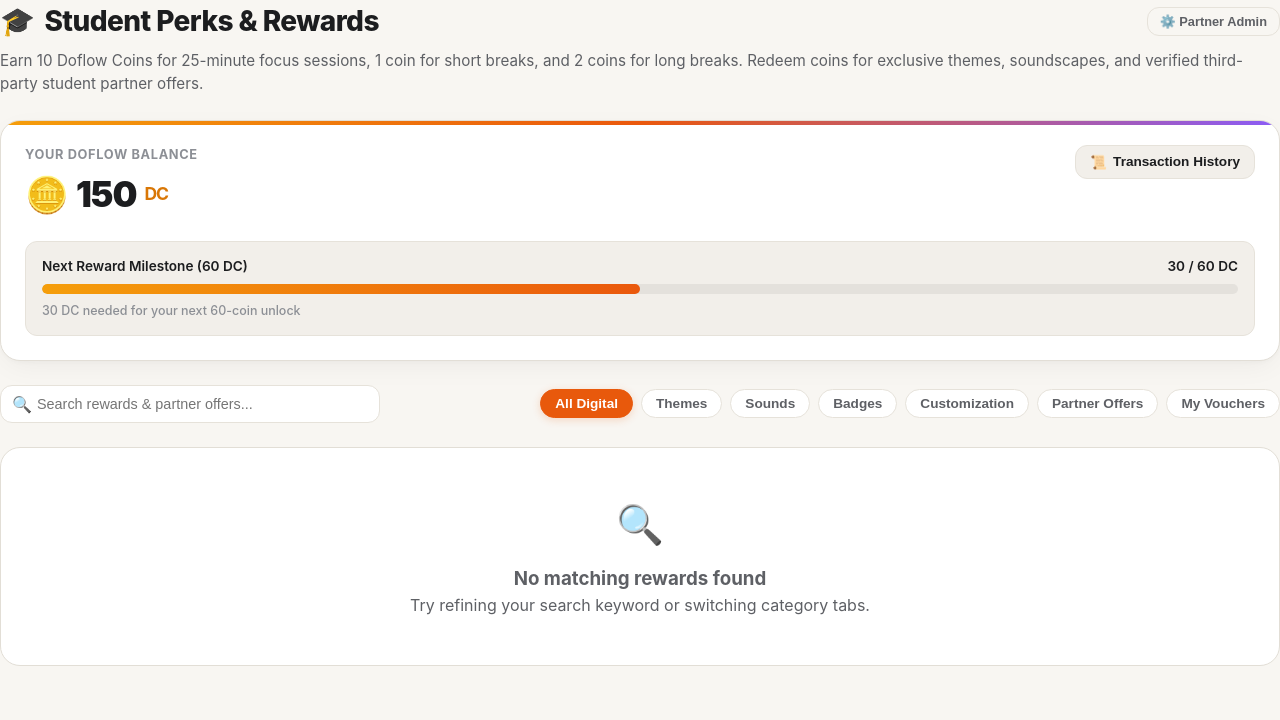
Test: Partner Offers UI Acceptance Tests › 2. expands terms & redemption instructions when clicking view terms button
The image size is (1280, 720).
Click the tab with test id "category-filter-partner_offers" at (1098, 404), box x1=1037 y1=389 x2=1158 y2=418
(page scrolled)
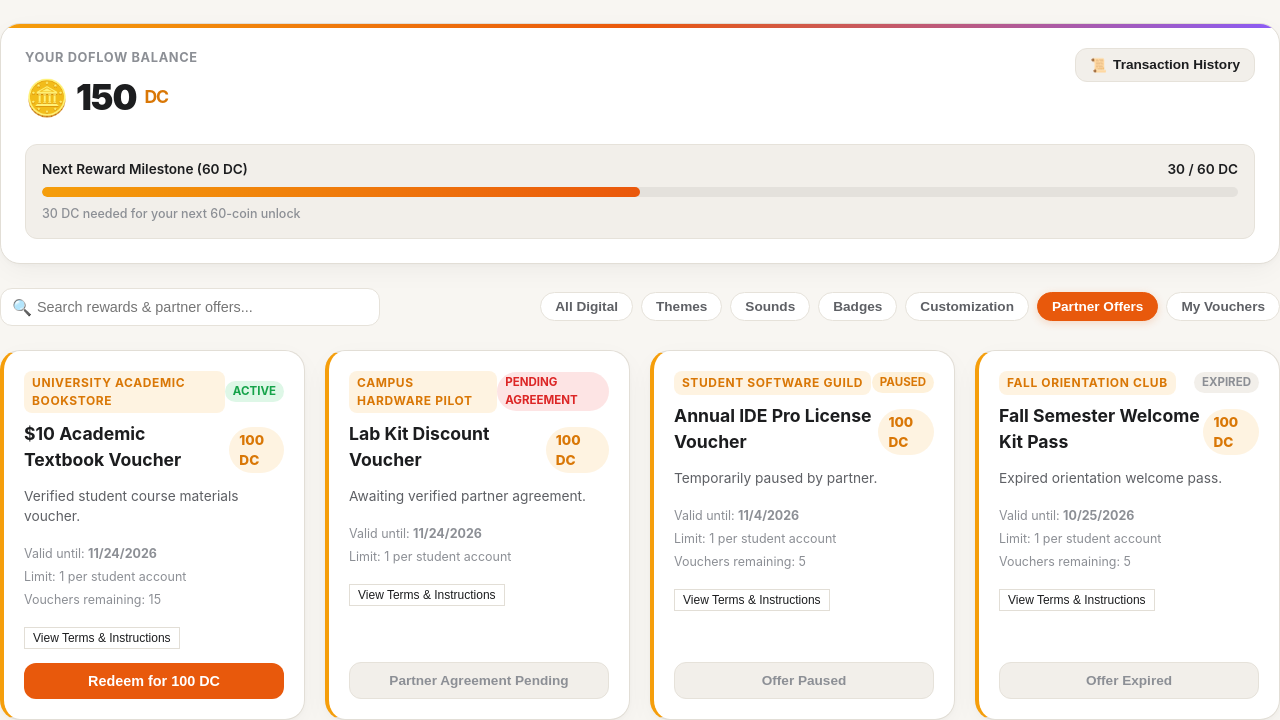
Result: the button with test id "terms-btn-partner_bookstore_active" is shown
Note: Click to expand terms
Click the button with test id "terms-btn-partner_bookstore_active" at (102, 638), box x1=24 y1=626 x2=180 y2=648
(page scrolled)
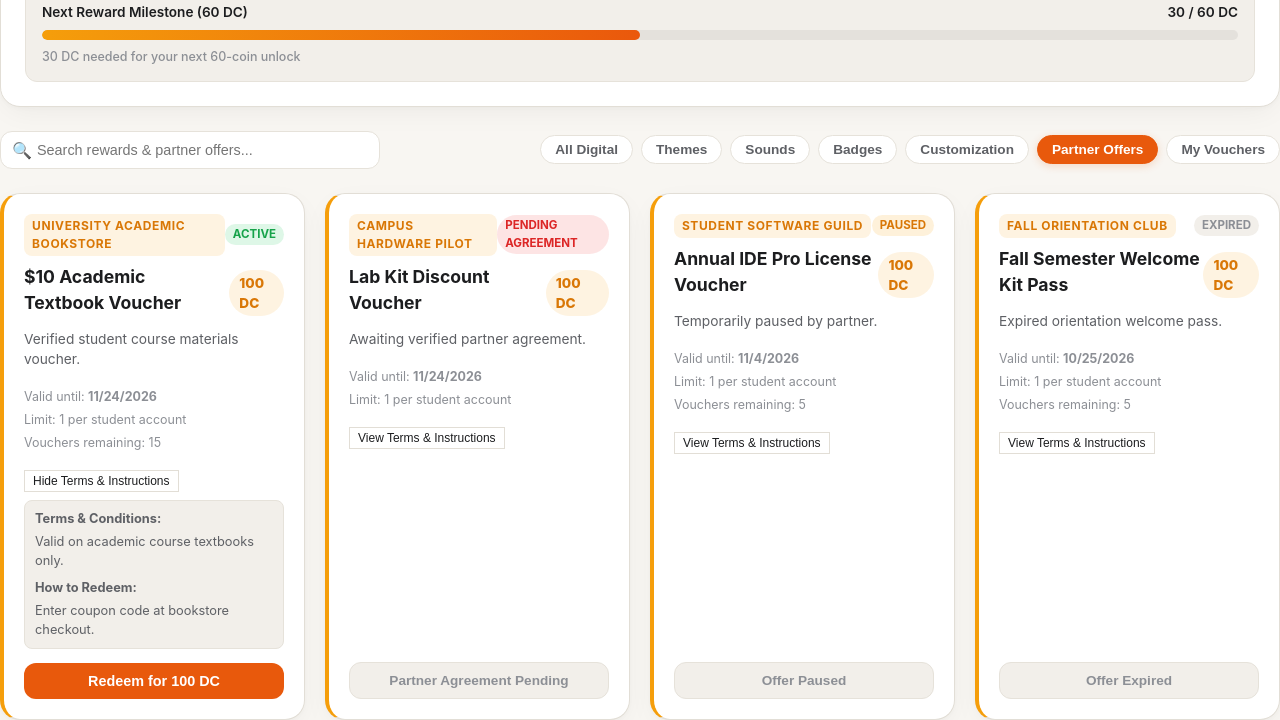
Result: the element with test id "terms-content-partner_bookstore_active" is shown at x1=24 y1=500 x2=284 y2=649
Result: the element with test id "terms-content-partner_bookstore_active" shows "Valid on academic course textbooks only." at x1=35 y1=534 x2=254 y2=568
Result: the element with test id "terms-content-partner_bookstore_active" shows "Enter coupon code at bookstore checkout." at x1=35 y1=603 x2=229 y2=638
